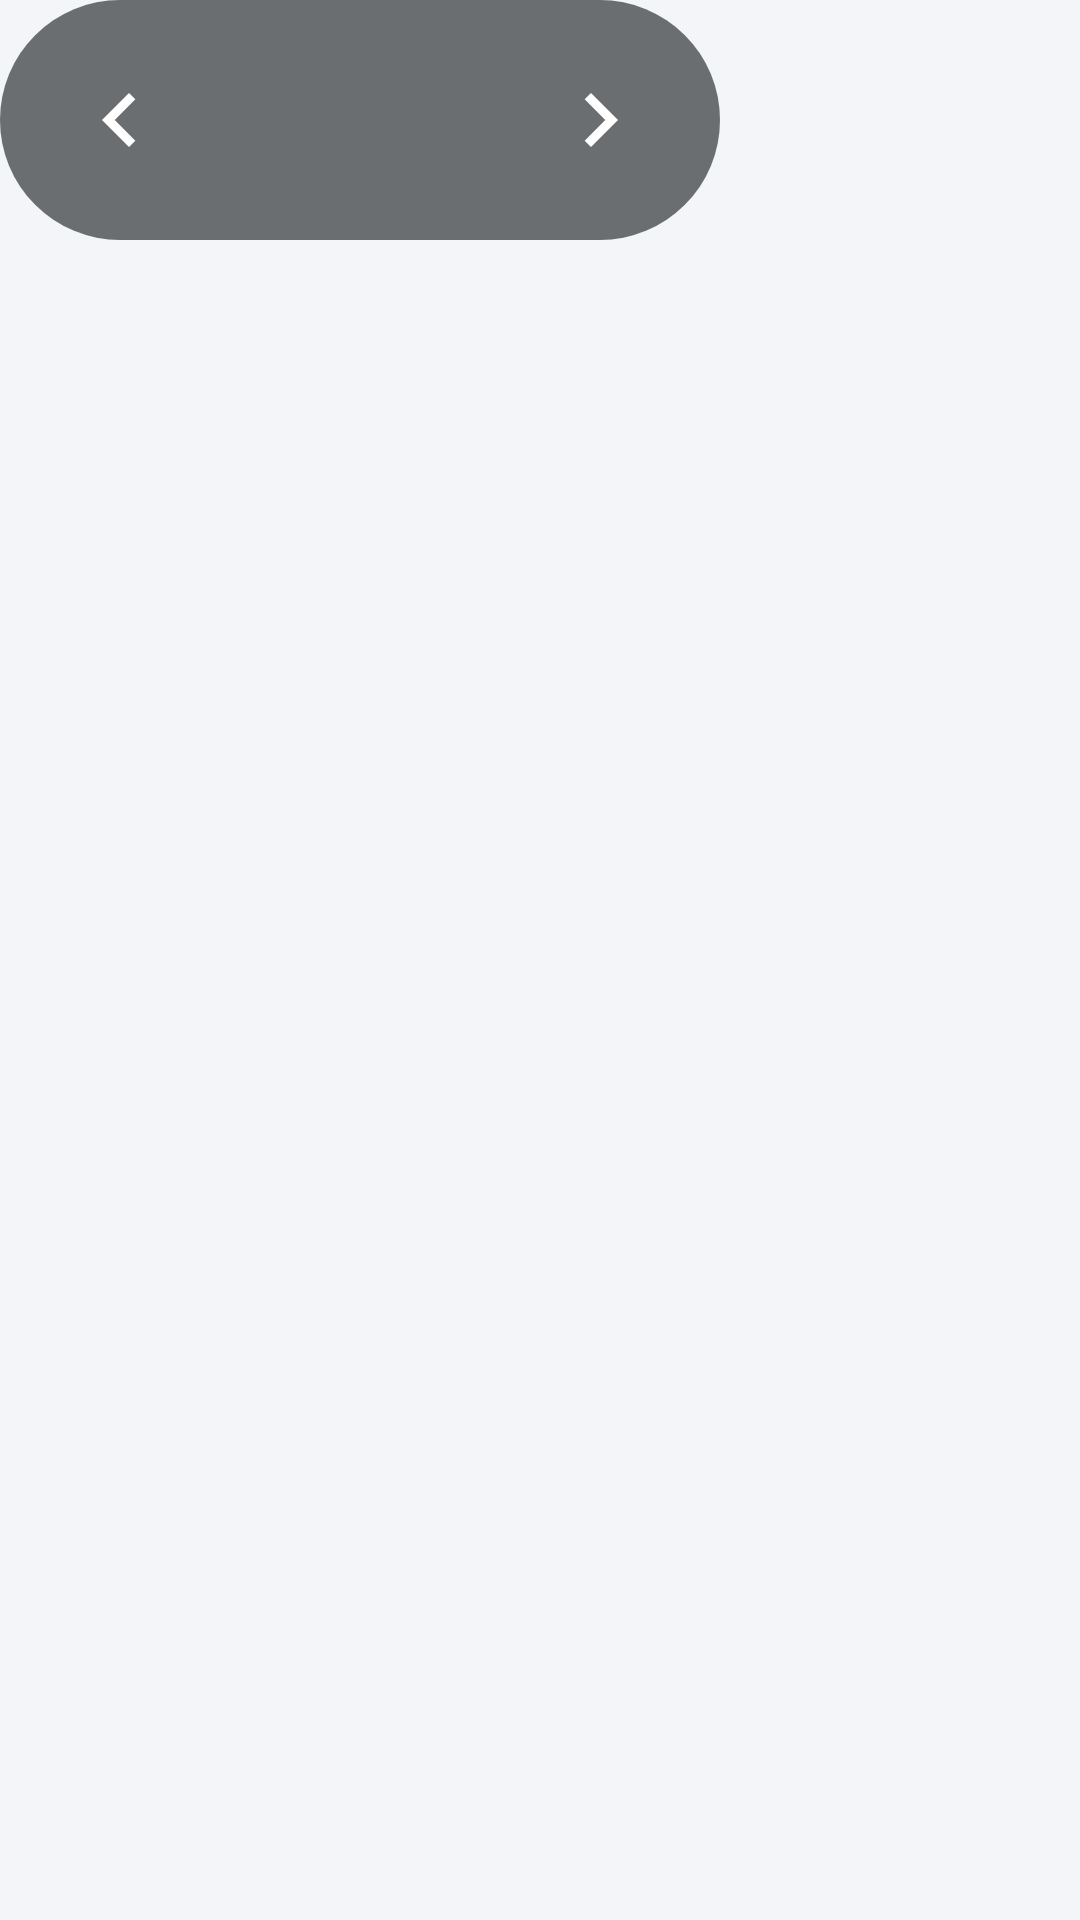

Where to tap for icons on this 1080*1920 app screen, as (x,y):
다음 장소: (600,120)
이전 장소: (120,120)
